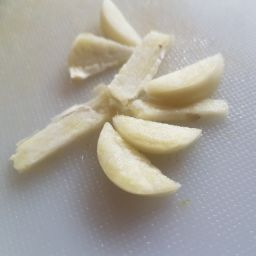Garlic cloves: (13, 5, 241, 203), (122, 28, 239, 134), (95, 116, 203, 213), (8, 101, 107, 175), (132, 73, 244, 133), (67, 28, 130, 79), (93, 2, 143, 49)
